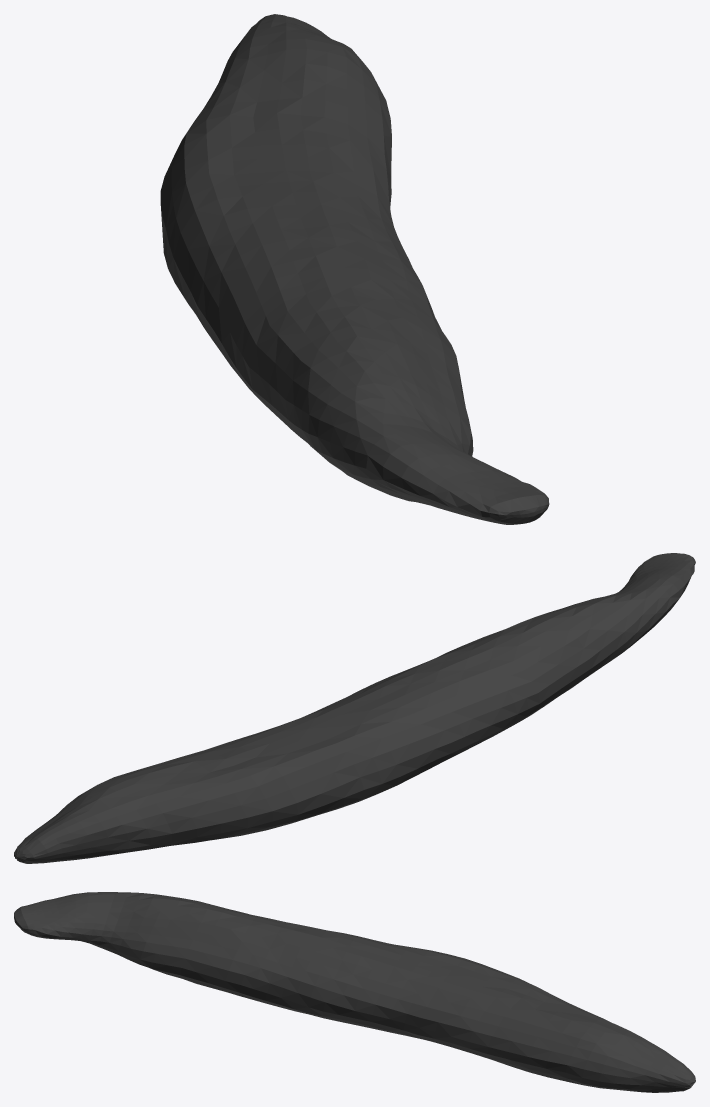
File: LatDigExt_1.glb
The picture shows the model from 3 angles, top to bottom: view 1: azimuth 30°, elevation 25°; view 2: azimuth 150°, elevation 25°; view 3: azimuth 270°, elevation 25°; orthographic projection. The views are drawn at different scales.
Visible parts, largest first — view 1: LatDigExt_1; view 2: LatDigExt_1; view 3: LatDigExt_1.
Boxes of the visible parts, x1,y1,x2,y2 form: LatDigExt_1: (160, 14, 549, 524); LatDigExt_1: (14, 553, 695, 863); LatDigExt_1: (14, 892, 695, 1092).
Bounding box in the file's own units: 0.00933 × 0.00315 × 0.0212.
Materials: 1 (1 with a texture image).
